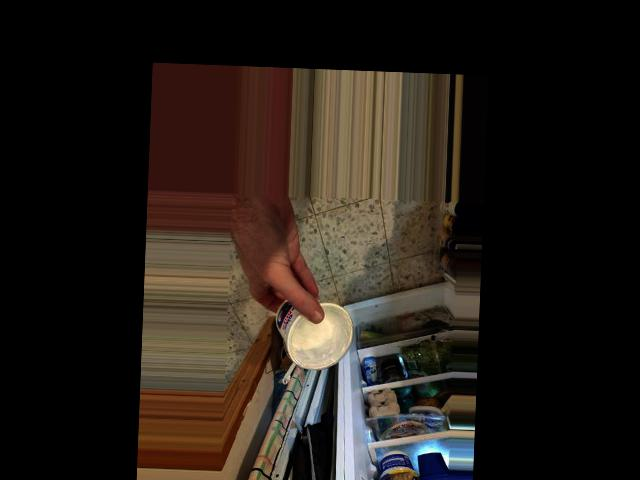cotage: (269, 294, 354, 375)
